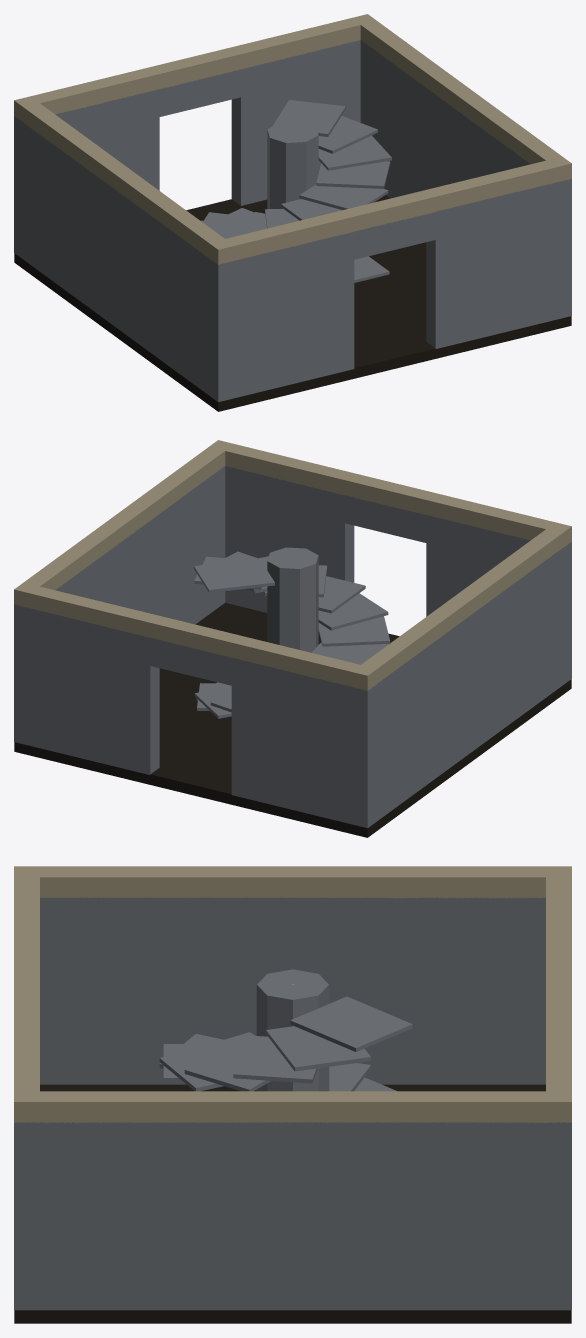
The model's file is KeepStairwell.fbx.
3 renders of one model, top to bottom at view 1: azimuth 30°, elevation 25°; view 2: azimuth 150°, elevation 25°; view 3: azimuth 270°, elevation 25°, orthographic. The views are drawn at different scales.
Parts seen in each view (by area): view 1: KeepStairwell; view 2: KeepStairwell; view 3: KeepStairwell.
Boxes of the visible parts, x1,y1,x2,y2 form: KeepStairwell: (14,14,571,411); KeepStairwell: (14,440,571,837); KeepStairwell: (14,866,571,1323).
Bounding box in the file's own units: 1122 × 492 × 1122.
4 materials, 4 textured.
